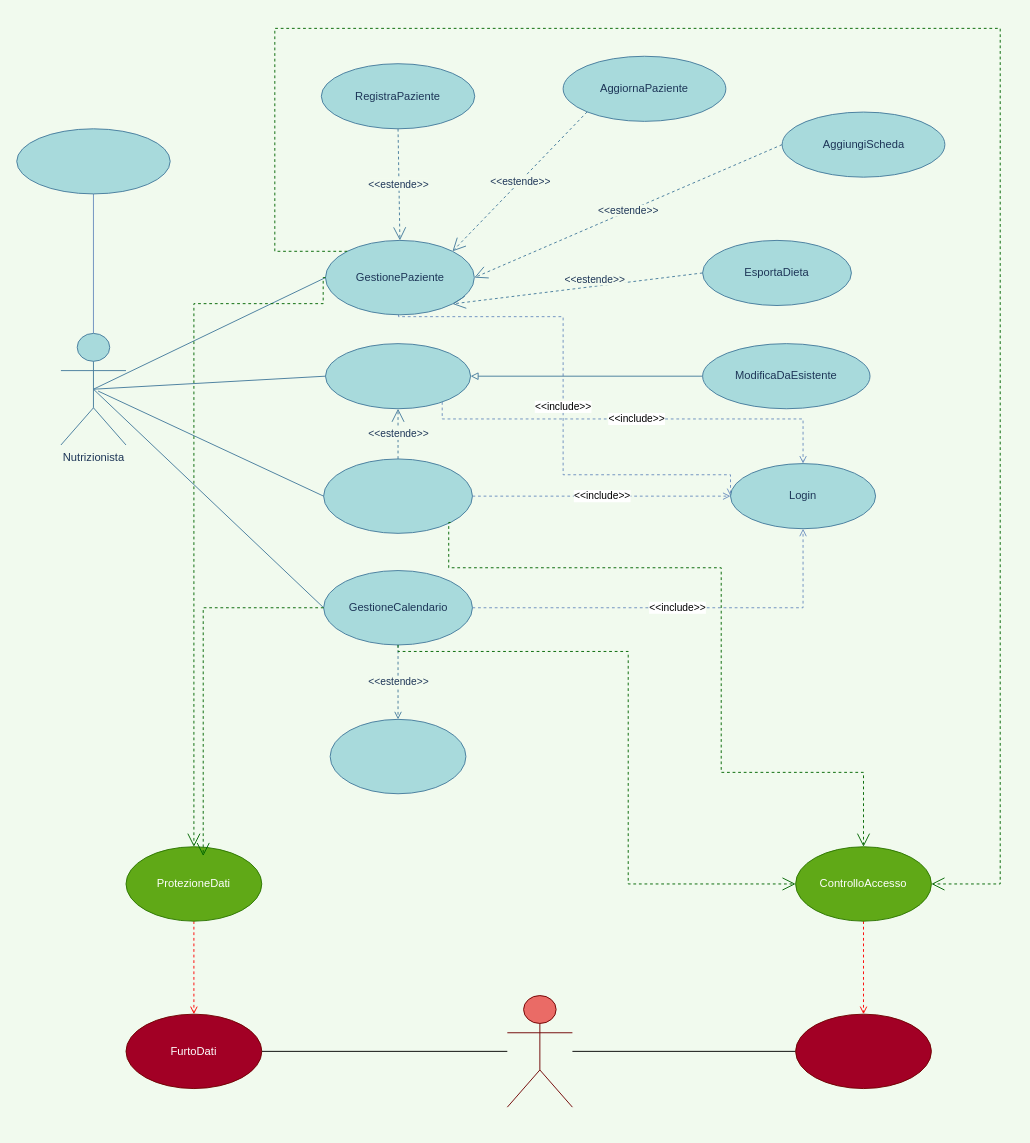
The diagram is 1030 pixels wide and 1143 high, and some of its shapes have lost their labels. The shapes that lost their labels are listed below. From the top down, each one's box as (x1, y1, x2, y2) in pixels, then its label:
(16, 128, 170, 194): ImpostaCredenziali
(325, 343, 471, 409): CreaDieta
(323, 458, 472, 533): GestioneAlimenti
(329, 718, 466, 794): AggiungiAppuntamento
(506, 995, 572, 1107): Ladro
(795, 1013, 931, 1089): FurtoCredenziali
